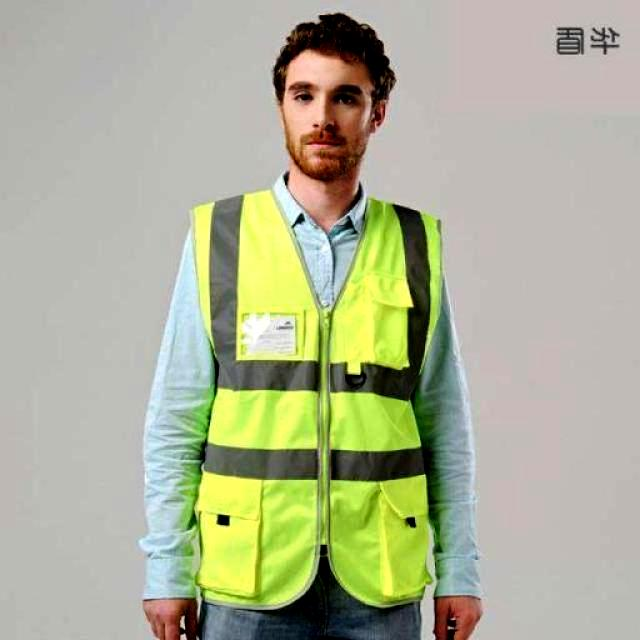no_head_wear: (272, 12, 395, 102)
person: (141, 12, 481, 639)
